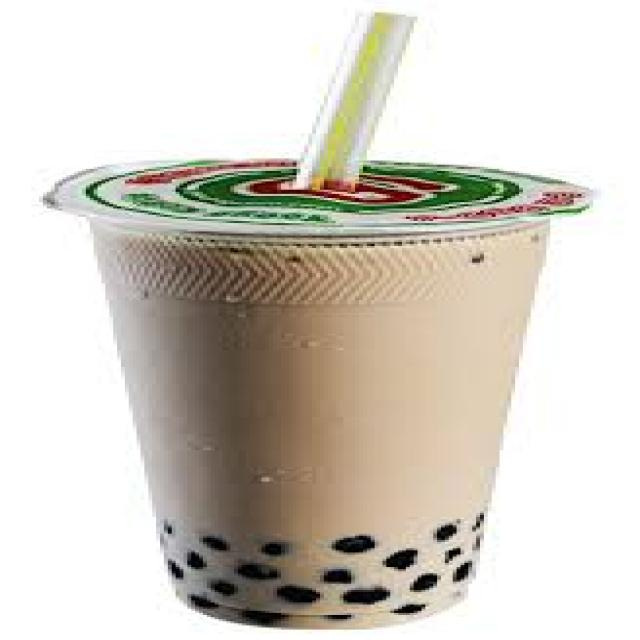bottle: (97, 224, 548, 627)
